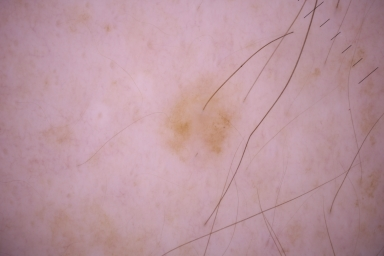melanoma: (169, 81, 231, 163)
